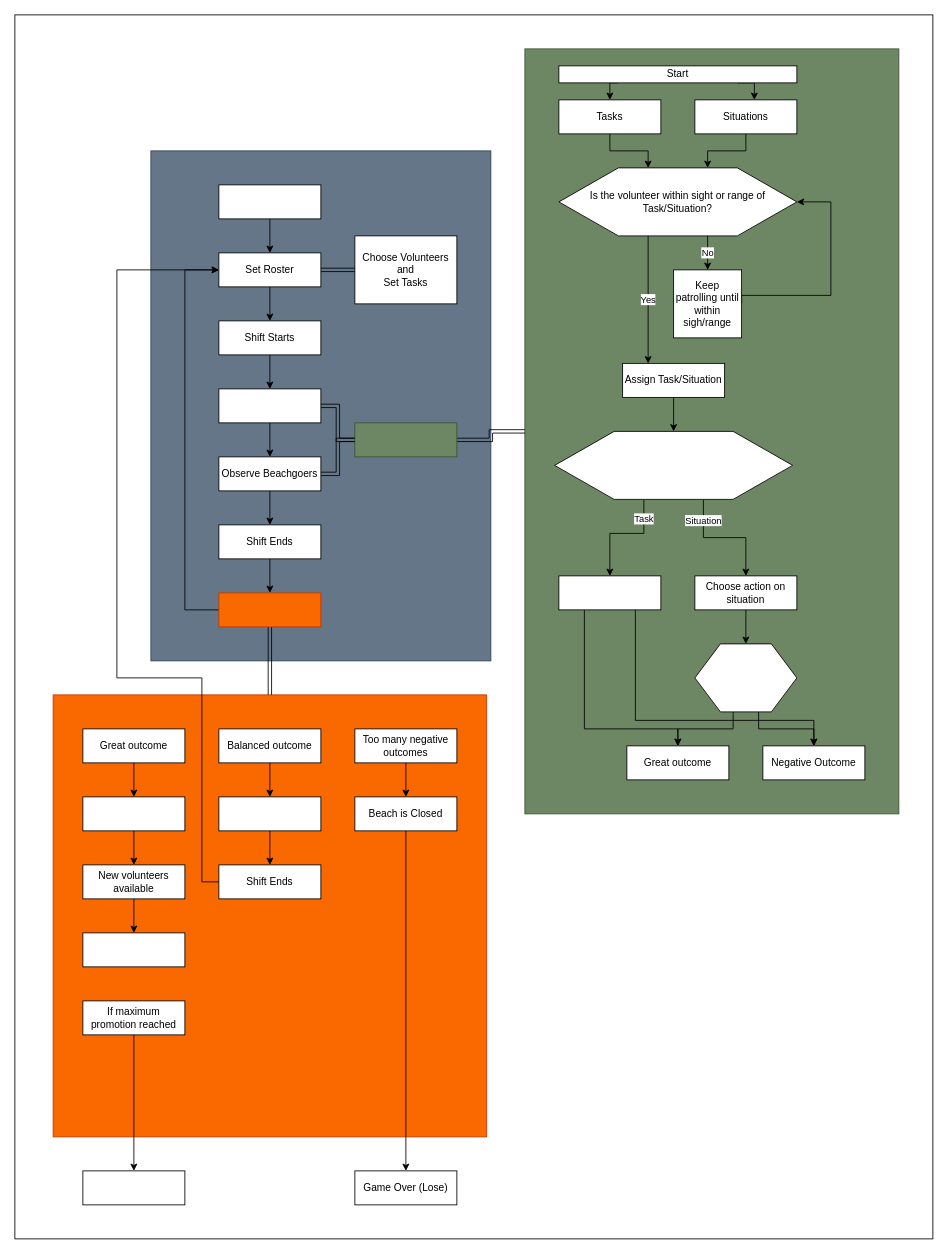
Image size: 948x1254. Some labels were removed from this diagram. The box of each missing label's shape, as (x1, y1, x2, y2) in pixels:
Beach increases in reputation and beach goers: (82, 932, 185, 967)
Criteria not met for promotion, try again: (218, 796, 321, 831)
Did the player accomplish within the time limit?: (694, 643, 797, 712)
Game Over (Win): (82, 1170, 185, 1205)
Game Start: (218, 184, 321, 219)
Is it a Task or Situation?: (554, 431, 793, 499)
On Duty: (218, 388, 321, 423)
Patrolling: (354, 422, 457, 457)
Promotion given: (82, 796, 185, 831)
Read news/review of the day: (218, 592, 321, 627)
Task Outcome: (558, 575, 661, 610)
